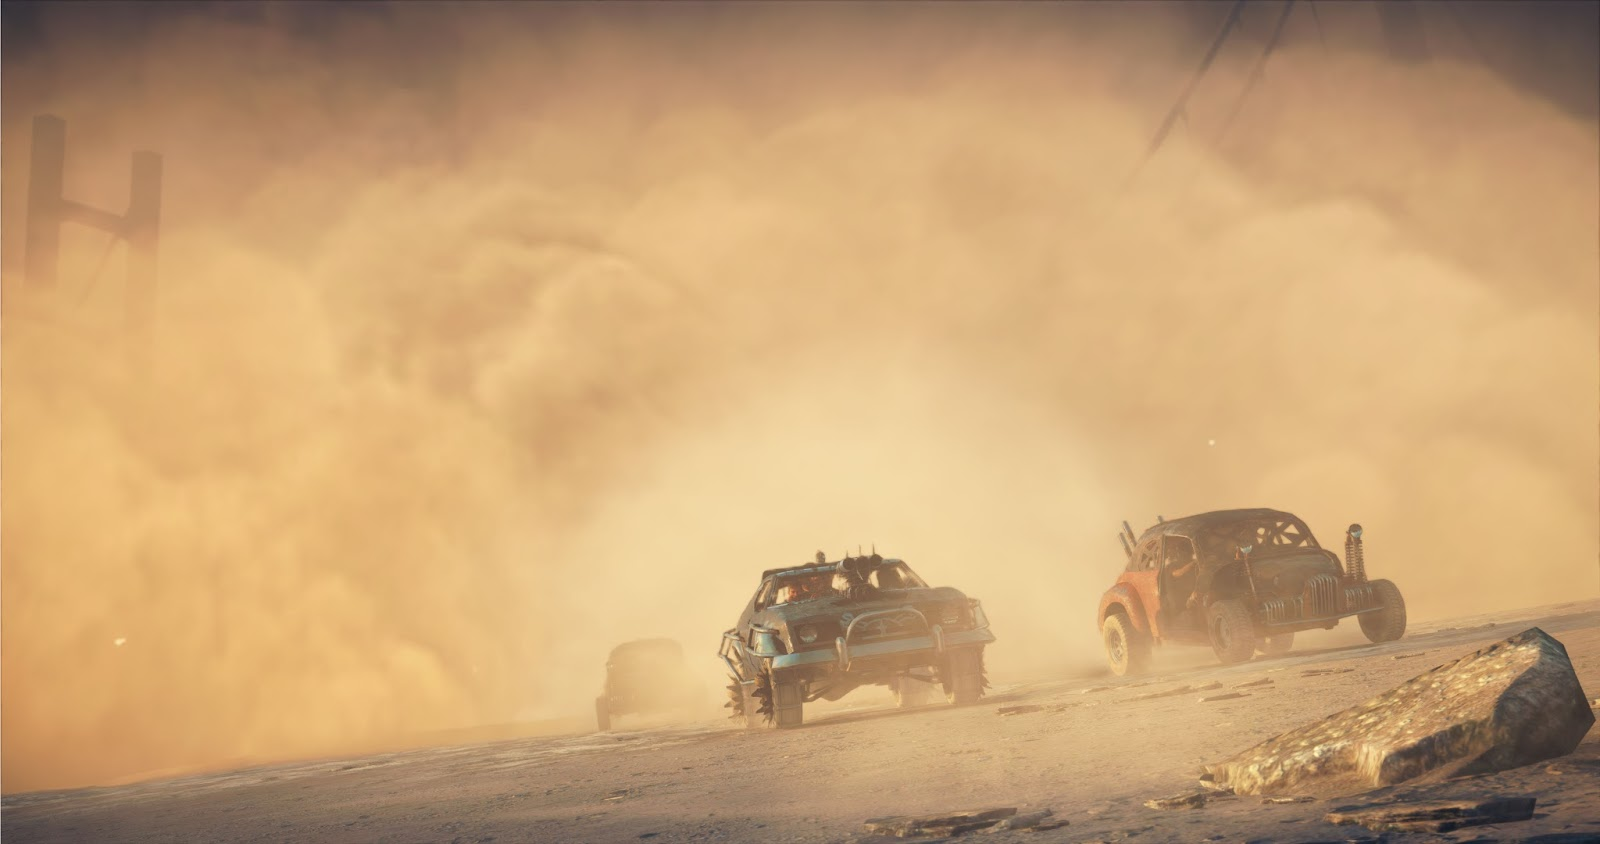car: (1101, 510, 1407, 679), (721, 555, 996, 724), (592, 636, 715, 730)
